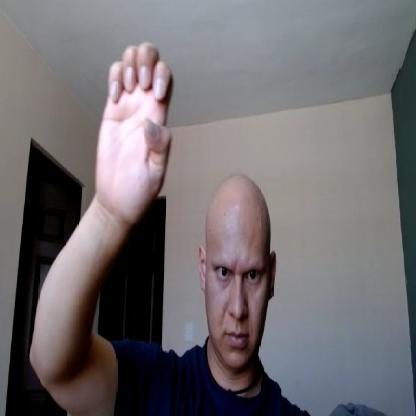E: (98, 42, 175, 222)
